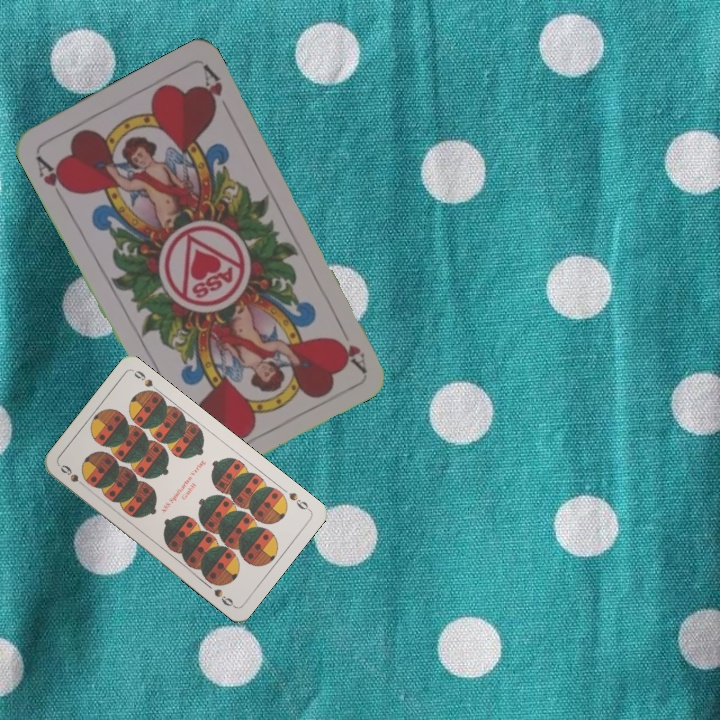HA: (32, 151, 74, 205), (332, 318, 369, 374)
S9: (56, 460, 83, 486), (285, 488, 313, 513)
